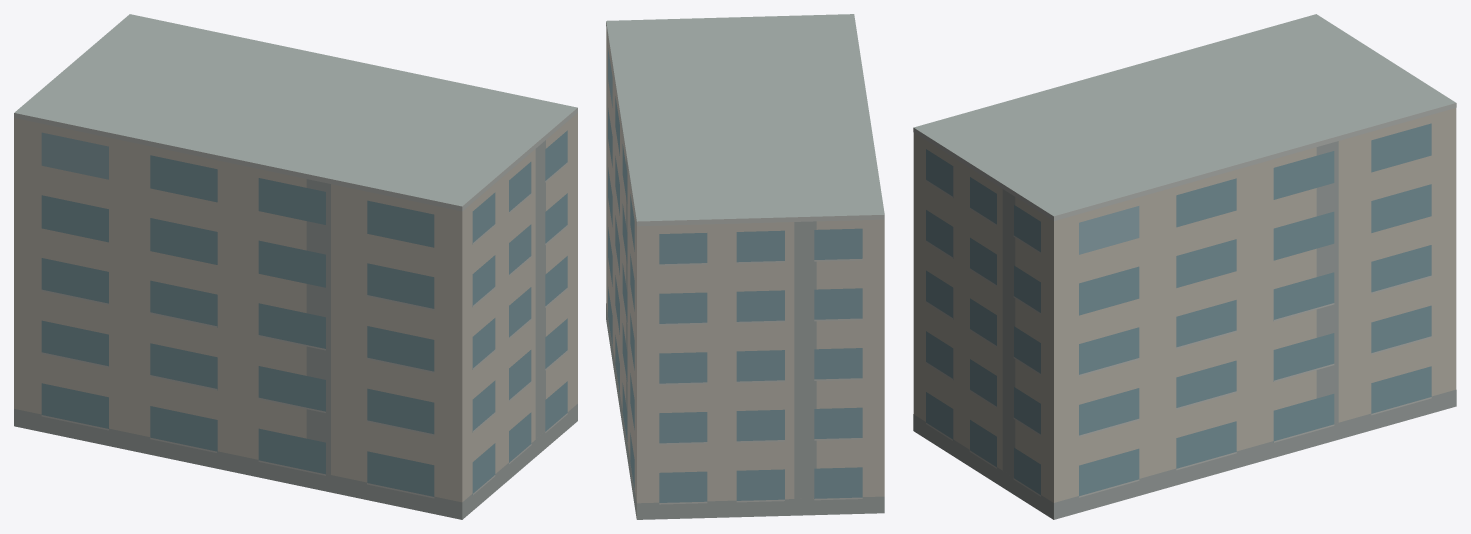
File: residential-70036448-d418-4d96-889e-812a51d4ddc6.glb
3 views of the same model, side by side, from view 1: azimuth 30°, elevation 25°; view 2: azimuth 150°, elevation 25°; view 3: azimuth 270°, elevation 25° (orthographic). The views are drawn at different scales.
Visible parts, largest first — view 1: residential-70036448-d418-4d96-889e-812a51d4ddc6.tmp; view 2: residential-70036448-d418-4d96-889e-812a51d4ddc6.tmp; view 3: residential-70036448-d418-4d96-889e-812a51d4ddc6.tmp.
Part boxes in pixels (x1,y1,x2,y2): residential-70036448-d418-4d96-889e-812a51d4ddc6.tmp: (14,14,577,519); residential-70036448-d418-4d96-889e-812a51d4ddc6.tmp: (606,14,884,519); residential-70036448-d418-4d96-889e-812a51d4ddc6.tmp: (913,14,1456,519).
Size of the model in its own units: 21.81 by 15.25 by 24.73.
